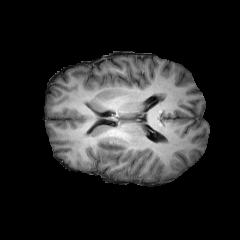glioma: (86, 133, 128, 167)
